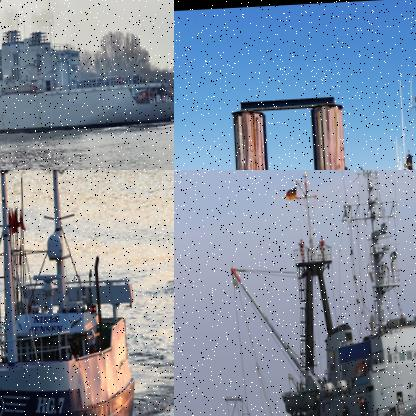Fishing Boat: (0, 170, 143, 415)
Military Ship: (205, 170, 415, 415), (0, 0, 173, 140)
Patrol Boat: (353, 3, 415, 169)
